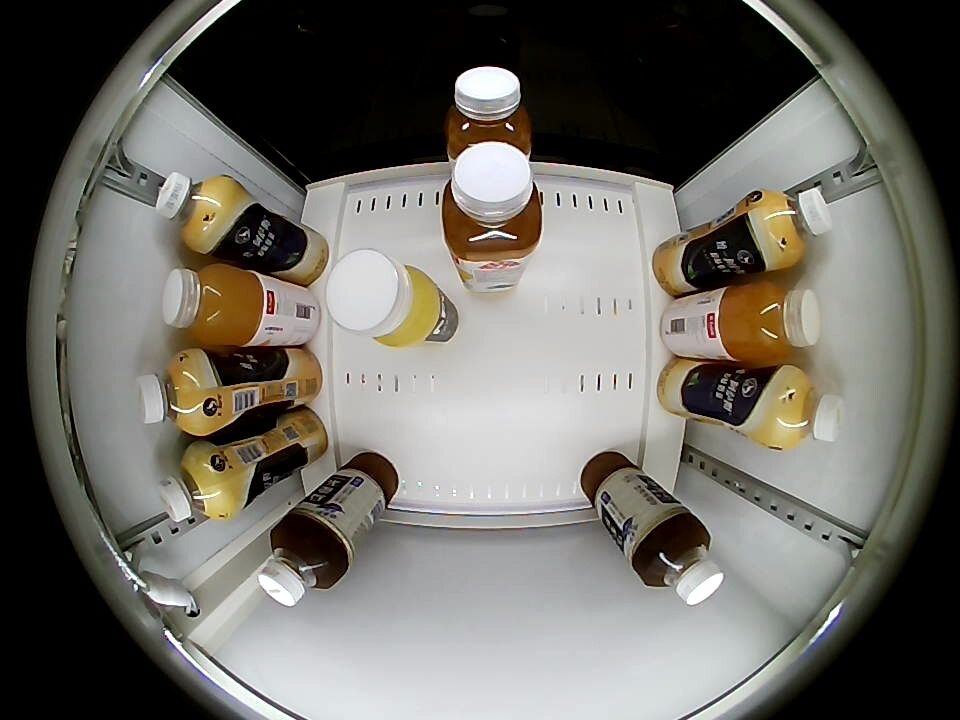asamu: (763, 367, 845, 450), (136, 350, 215, 435), (751, 187, 832, 266), (156, 172, 235, 249), (158, 448, 231, 523)
chapai: (442, 142, 544, 265), (445, 66, 532, 164)
nfc: (325, 248, 443, 348)
weic: (160, 264, 266, 347), (719, 282, 821, 364)
wulongcha: (634, 514, 724, 606), (257, 519, 344, 607)
